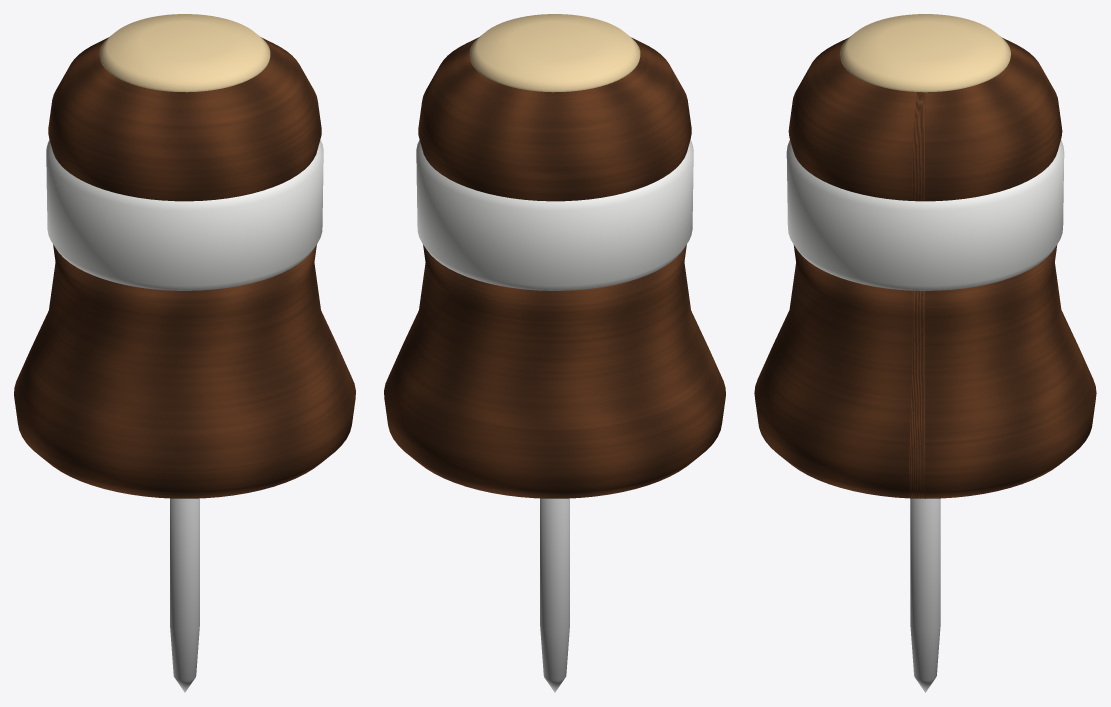
File: teemarker.glb
3 renders of one model, left to right at view 1: azimuth 30°, elevation 25°; view 2: azimuth 150°, elevation 25°; view 3: azimuth 270°, elevation 25°, orthographic.
Visible parts, largest first — view 1: marker; view 2: marker; view 3: marker.
Boxes of the visible parts, x1,y1,x2,y2 form: marker: [14, 14, 355, 692]; marker: [384, 14, 725, 692]; marker: [754, 14, 1096, 692].
Size of the model in its own units: 0.09 by 0.1895 by 0.09.
Materials: 4 (1 with a texture image).
